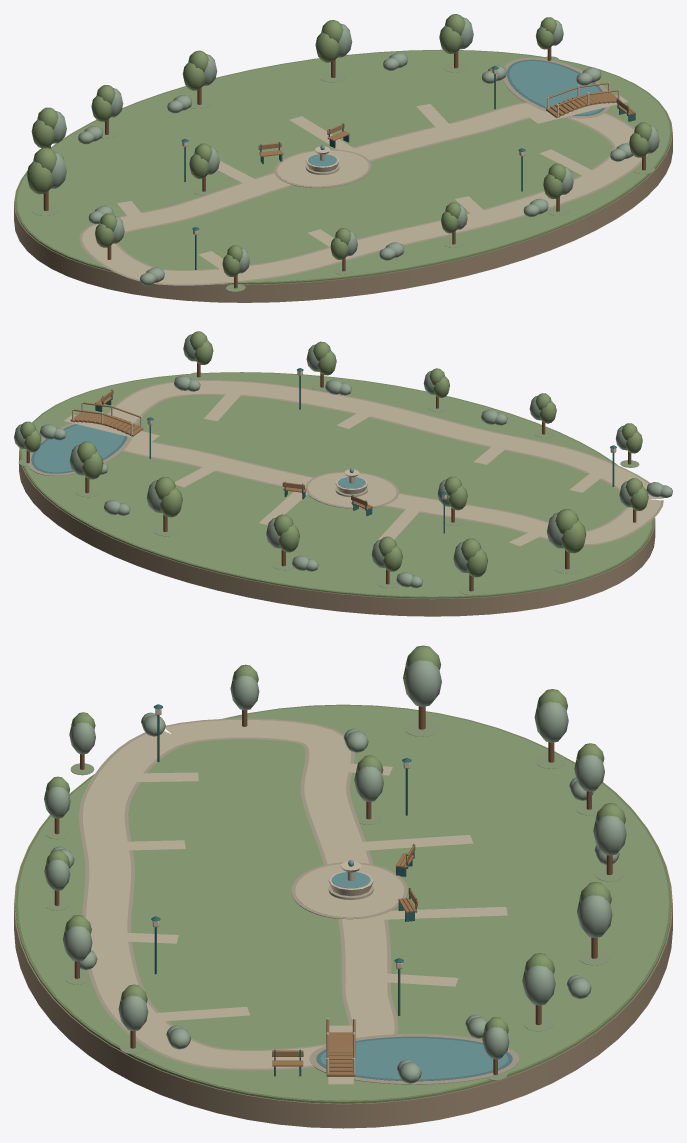
Rendered from town_environment.glb.
3 renders of one model, top to bottom at view 1: azimuth 30°, elevation 25°; view 2: azimuth 150°, elevation 25°; view 3: azimuth 270°, elevation 25°, orthographic. The views are drawn at different scales.
Visible parts, largest first — view 1: town_environment_runtime; view 2: town_environment_runtime; view 3: town_environment_runtime.
Part boxes in pixels (x1,y1,x2,y2): town_environment_runtime: (14, 14, 672, 302); town_environment_runtime: (14, 331, 672, 616); town_environment_runtime: (14, 645, 672, 1128).
Bounding box in the file's own units: 37.2 × 4.7 × 26.
